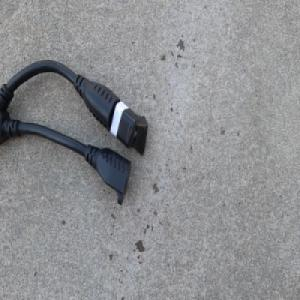Wire: (0, 58, 149, 206)
